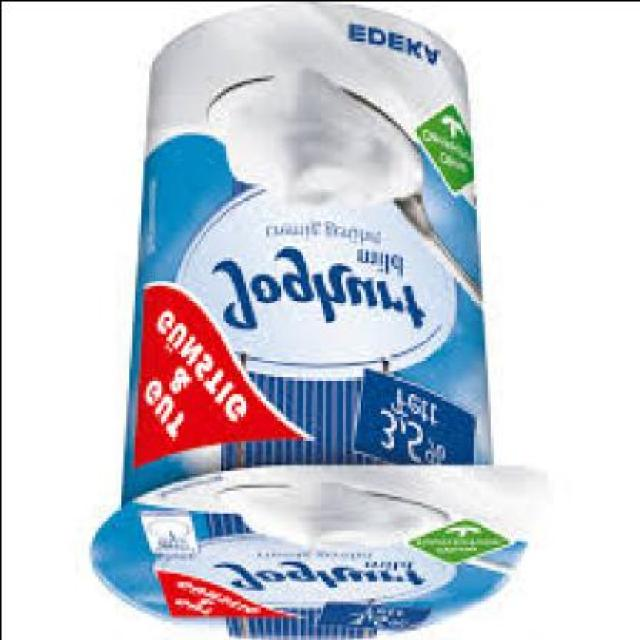PLASTIC: (85, 7, 543, 638)
